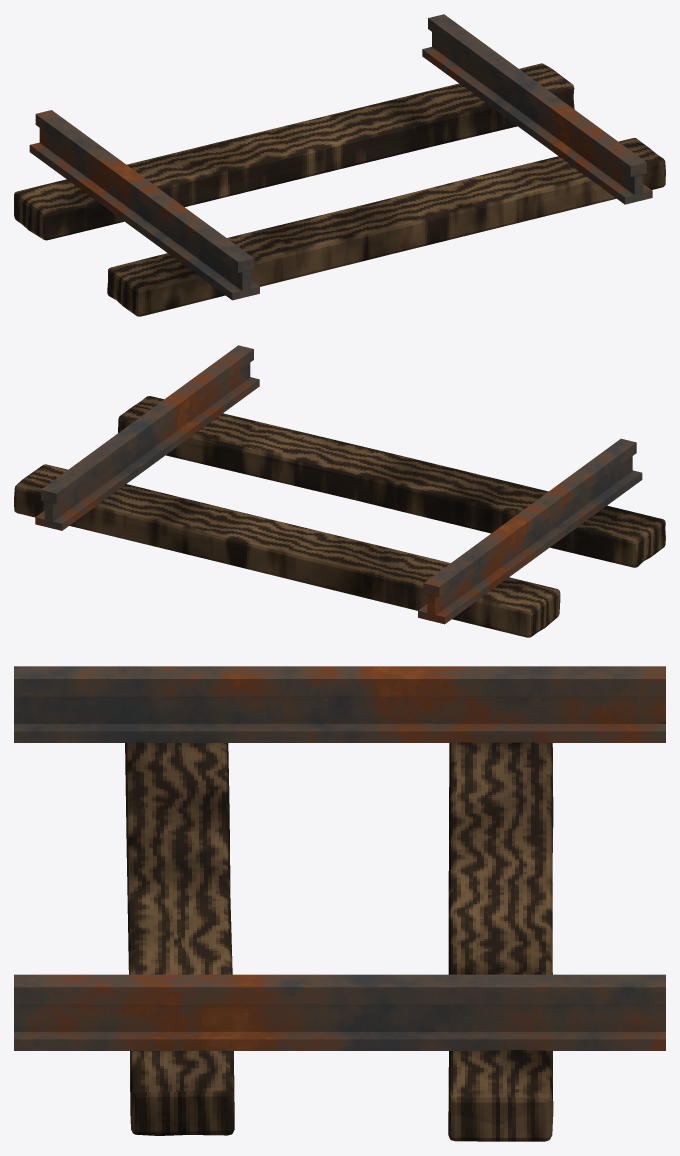
The model's file is mine_rail.glb.
3 renders of one model, top to bottom at view 1: azimuth 30°, elevation 25°; view 2: azimuth 150°, elevation 25°; view 3: azimuth 270°, elevation 25°, orthographic. The views are drawn at different scales.
Parts seen in each view (by area): view 1: mine_rail; view 2: mine_rail; view 3: mine_rail.
Boxes of the visible parts, bbox=[...] form: mine_rail: bbox=[14, 14, 665, 316]; mine_rail: bbox=[14, 345, 665, 637]; mine_rail: bbox=[14, 666, 665, 1141].
Bounding box in the file's own units: 2.34 × 0.2751 × 1.52.
Materials: 2 (2 with a texture image).
